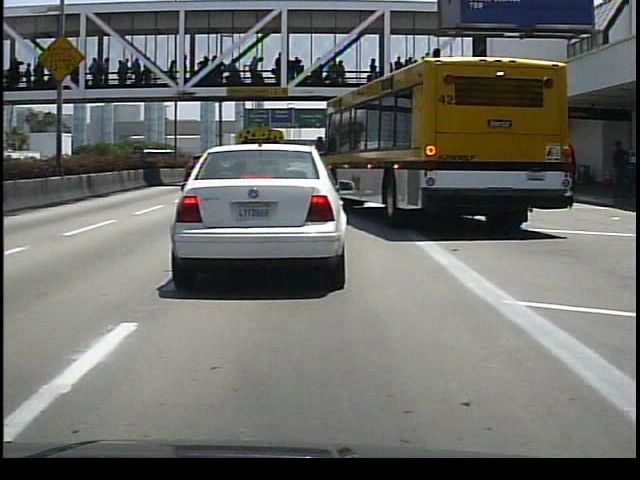person: (605, 140, 636, 206)
